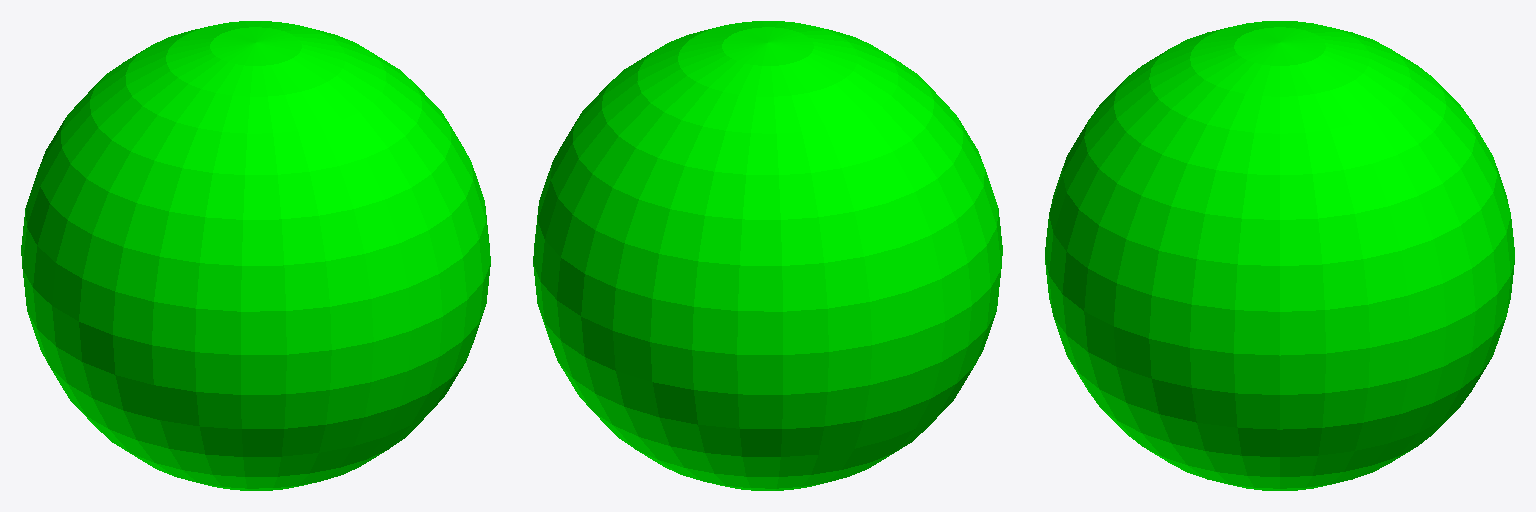
The model's file is green_sphere.obj.
3 renders of one model, left to right at view 1: azimuth 30°, elevation 25°; view 2: azimuth 150°, elevation 25°; view 3: azimuth 270°, elevation 25°, orthographic.
Parts seen in each view (by area): view 1: Sphere; view 2: Sphere; view 3: Sphere.
Boxes of the visible parts, x1=… form: Sphere: x1=21, y1=21, x2=490, y2=490; Sphere: x1=533, y1=21, x2=1002, y2=490; Sphere: x1=1045, y1=21, x2=1514, y2=490.
Size of the model in its own units: 0.4 by 0.4 by 0.4.